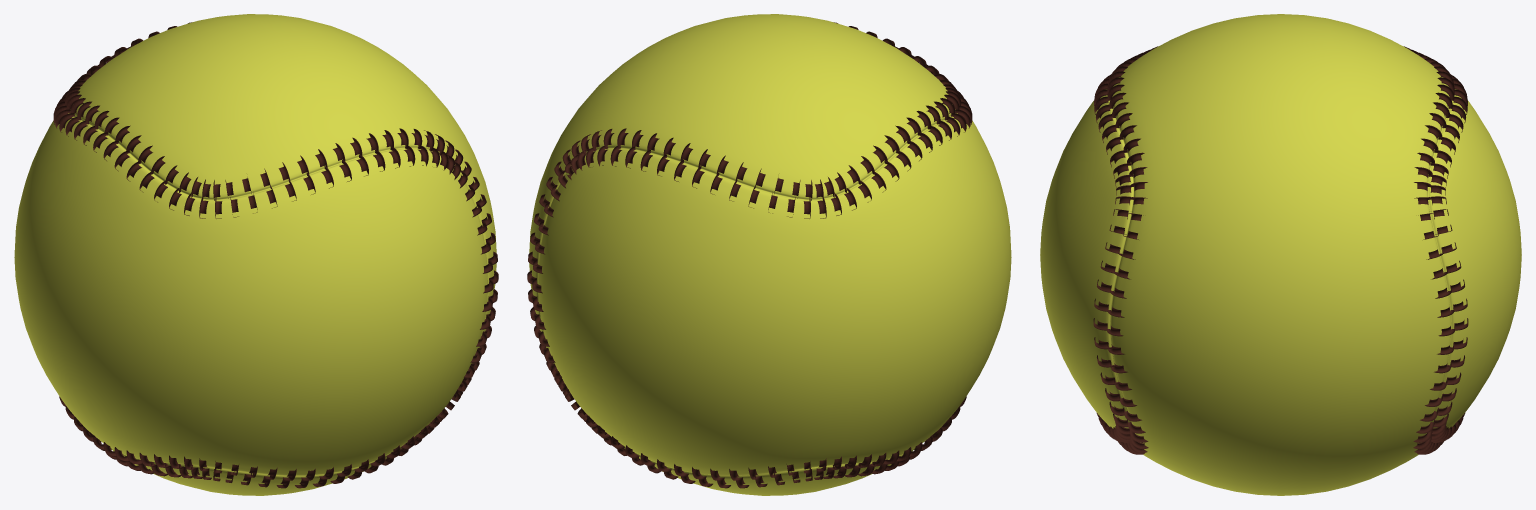
Rendered from BaseBall 5.0.fbx.
The picture shows the model from 3 angles, left to right: view 1: azimuth 30°, elevation 25°; view 2: azimuth 150°, elevation 25°; view 3: azimuth 270°, elevation 25°; orthographic projection.
Parts seen in each view (by area): view 1: Curve2; view 2: Curve2; view 3: Curve2.
Part boxes in pixels (x1,y1,x2,y2): Curve2: (14, 14, 498, 495); Curve2: (527, 14, 1011, 495); Curve2: (1040, 14, 1521, 495).
Bounding box in the file's own units: 8440 × 8440 × 8440.
